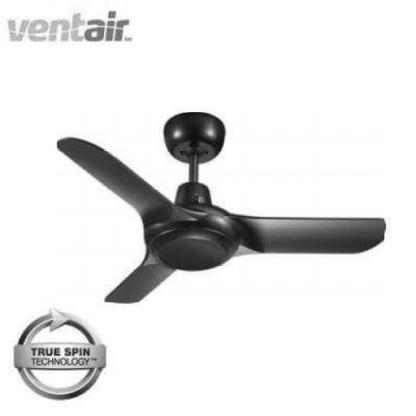ceiling-fan: (57, 112, 385, 303)
